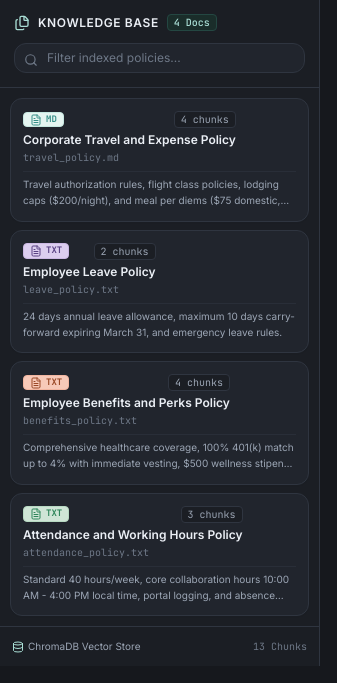
Test: KnowledgeBasePanel › filters policy documents based on search query
The image size is (337, 683).
Type "Travel" into the field with placeholder "Filter indexed policies..." at (160, 58), box [14, 43, 305, 73]
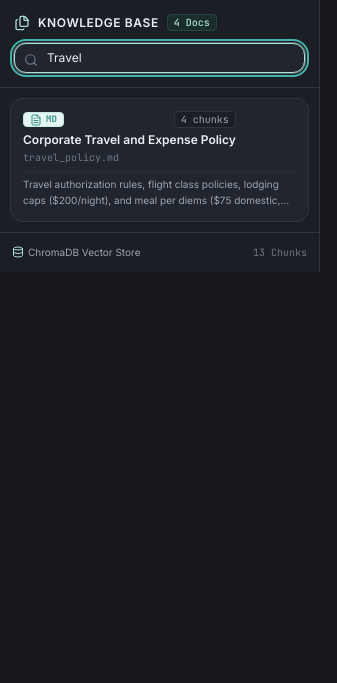
Expected: the text "Corporate Travel and Expense Policy" is shown, [23, 132, 236, 148]
Expected: the button "Attendance and Working Hours Policy" is gone
